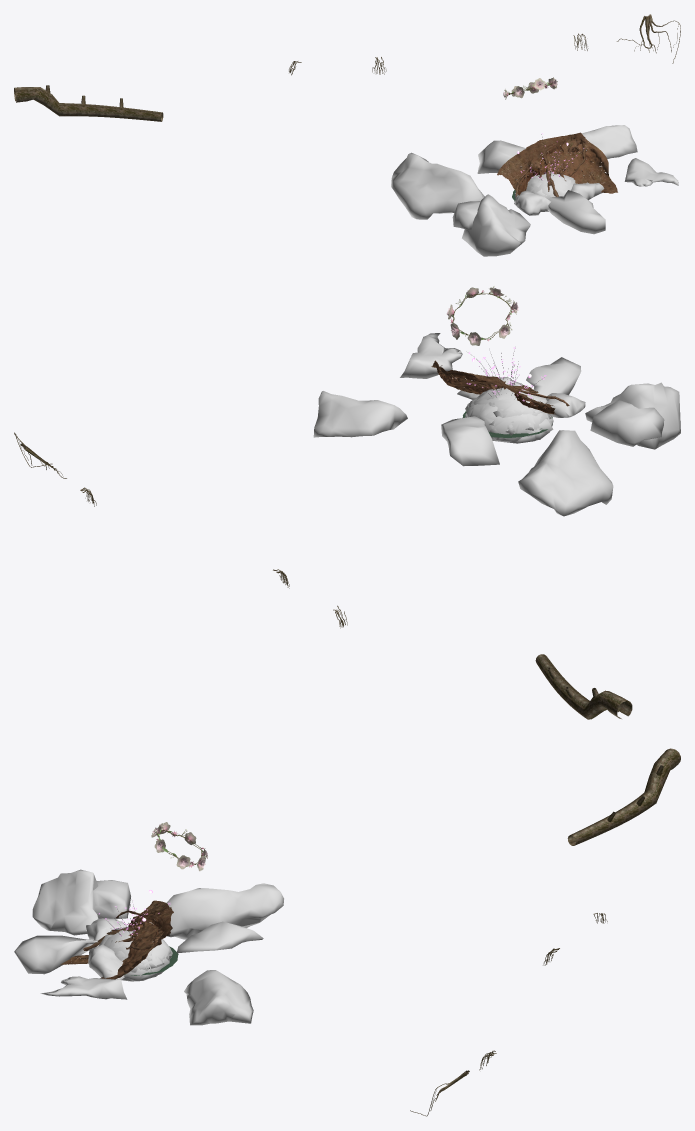
The model's file is forest_assets.glb.
3 renders of one model, top to bottom at view 1: azimuth 30°, elevation 25°; view 2: azimuth 150°, elevation 25°; view 3: azimuth 270°, elevation 25°, orthographic. The views are drawn at different scales.
Visible parts, largest first — view 1: asset_004, asset_054, asset_057, asset_007, asset_058, asset_056, asset_055, asset_059, asset_061, asset_060, asset_000, asset_063 (+2 smaller); view 2: asset_054, asset_056, asset_060, asset_057, asset_055, asset_007, asset_004, asset_059, asset_058, asset_000, asset_061; view 3: asset_054, asset_057, asset_056, asset_004, asset_007, asset_058, asset_055, asset_059, asset_060, asset_000, asset_062, asset_013 (+1 smaller).
Part boxes in pixels (<box>): asset_004: <box>497,132,617,197</box>; asset_054: <box>391,152,484,219</box>; asset_057: <box>462,194,530,256</box>; asset_007: <box>14,85,163,121</box>; asset_058: <box>548,190,605,234</box>; asset_056: <box>574,125,637,159</box>; asset_055: <box>477,140,540,173</box>; asset_059: <box>624,158,678,186</box>; asset_061: <box>514,190,550,215</box>; asset_060: <box>452,201,480,230</box>; asset_000: <box>503,77,557,99</box>; asset_063: <box>616,14,680,63</box>; asset_054: <box>518,430,613,516</box>; asset_056: <box>313,391,407,437</box>; asset_060: <box>590,400,664,446</box>; asset_057: <box>585,382,680,449</box>; asset_055: <box>441,416,499,466</box>; asset_007: <box>535,654,632,719</box>; asset_004: <box>431,360,569,414</box>; asset_059: <box>400,333,462,378</box>; asset_058: <box>526,357,581,396</box>; asset_000: <box>446,285,518,345</box>; asset_061: <box>545,393,585,417</box>; asset_054: <box>159,883,283,939</box>; asset_057: <box>32,869,98,935</box>; asset_056: <box>184,970,253,1025</box>; asset_004: <box>83,900,173,979</box>; asset_007: <box>567,748,680,845</box>; asset_058: <box>14,935,97,974</box>; asset_055: <box>176,921,263,953</box>; asset_059: <box>40,976,127,999</box>; asset_060: <box>93,880,130,919</box>; asset_000: <box>151,822,207,871</box>; asset_062: <box>88,944,124,979</box>; asset_013: <box>121,939,172,981</box>.
Size of what is drawn, in the model's own units: 20.51 by 4.38 by 17.14.
21 materials, 6 textured.
